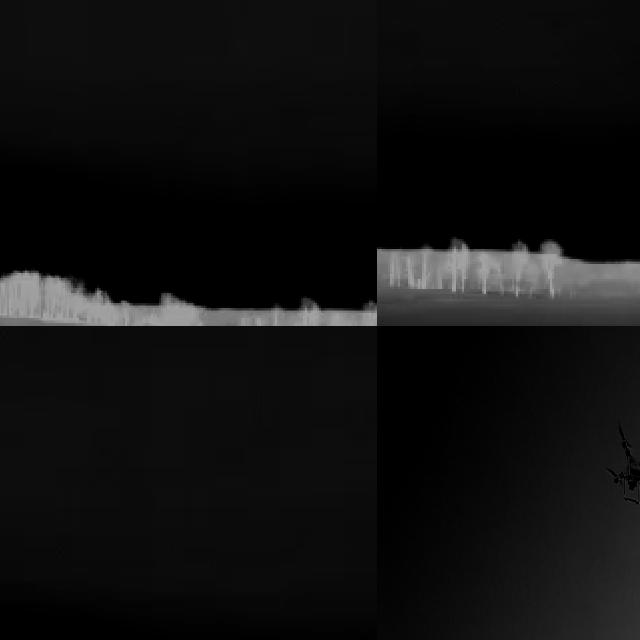drone: (608, 417, 640, 512)
